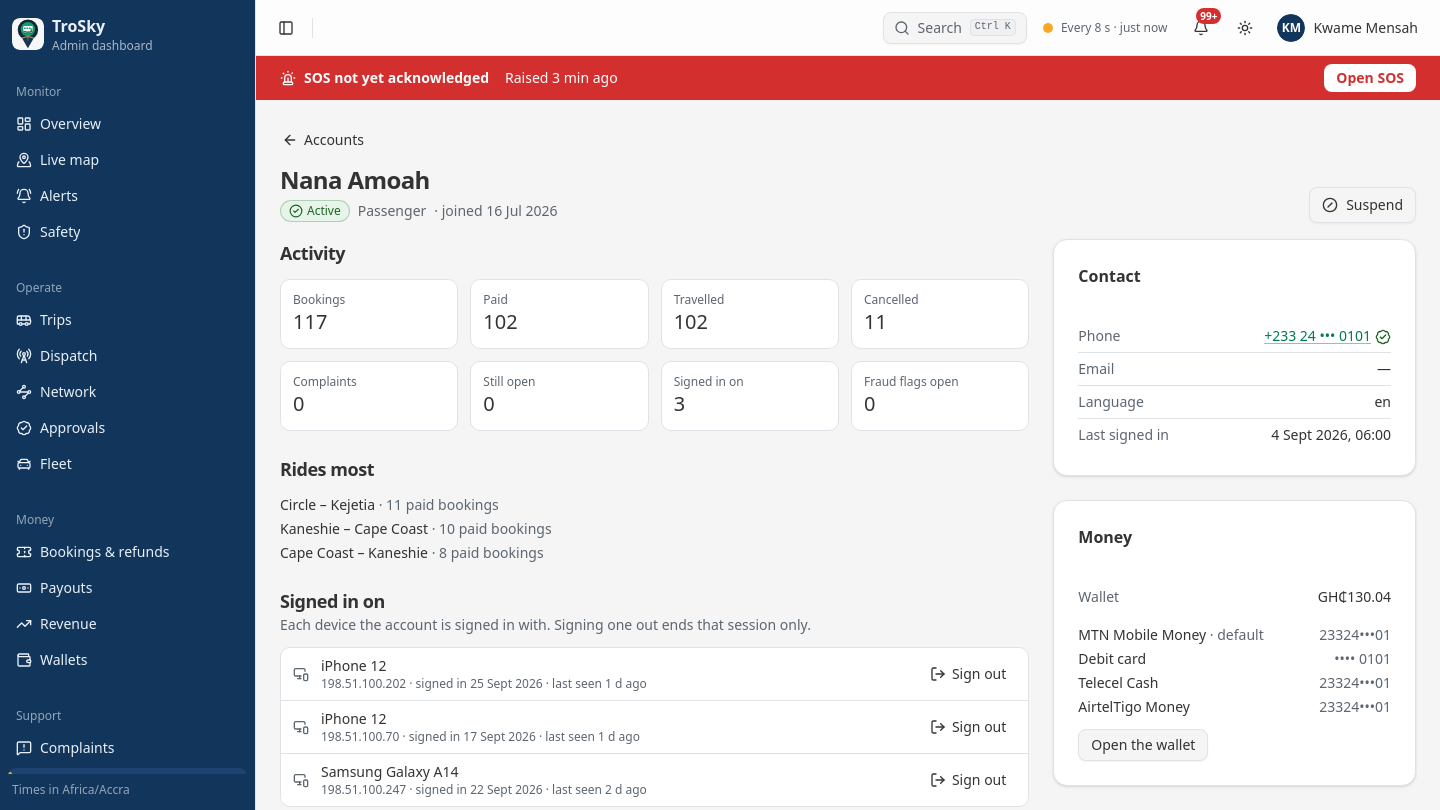
Scenario: Accounts › are suspended with a reason, which signs them out everywhere
The width and height of the screenshot is (1440, 810).
Expected: the number of buttons "Sign out" is 3, left=920, top=658, right=1016, bottom=690; left=920, top=711, right=1016, bottom=743; left=920, top=764, right=1016, bottom=796
Click the button "Suspend" at (1363, 205), box left=1309, top=187, right=1416, bottom=223
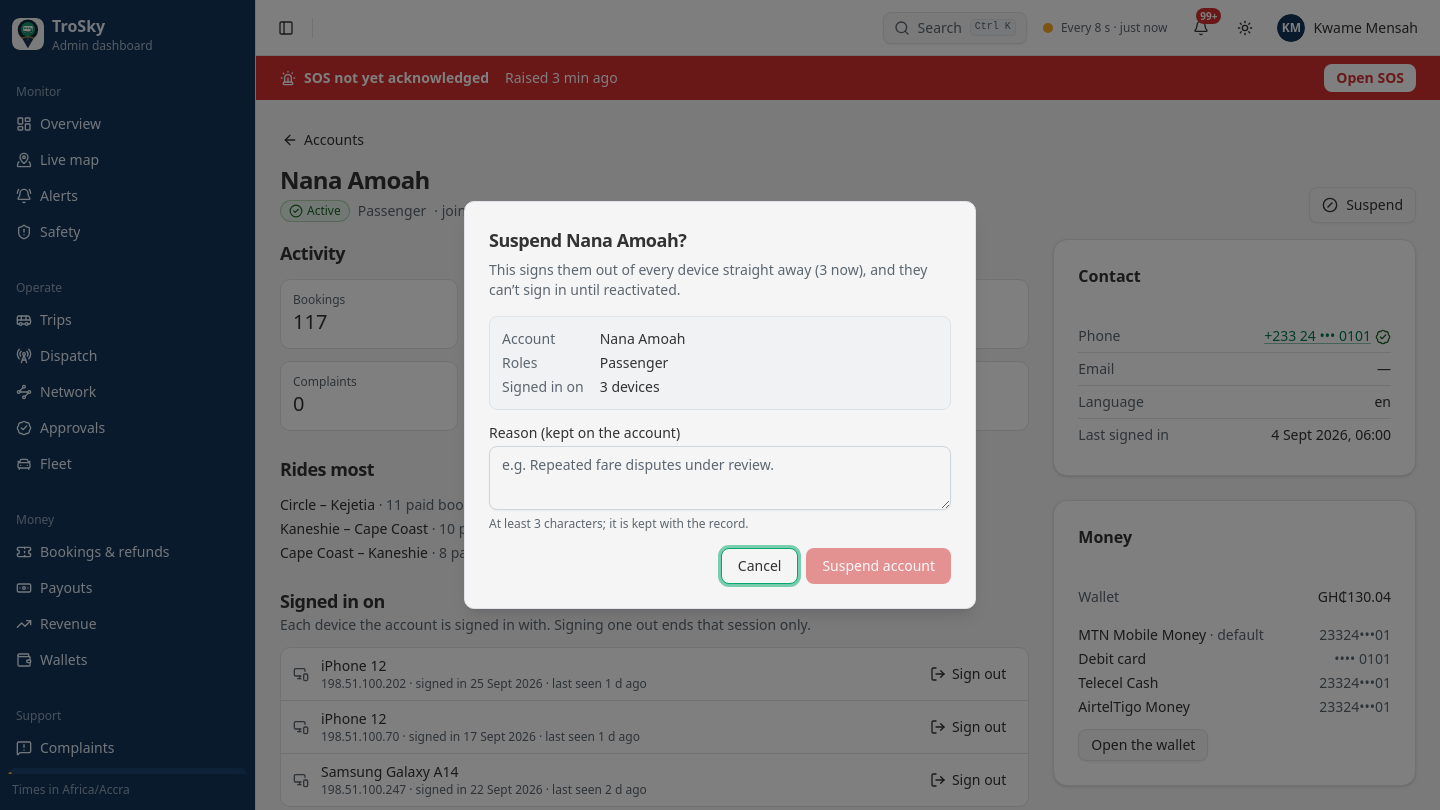
Now the text "signs them out of every device straight away" is shown, box left=489, top=260, right=928, bottom=299
Now the button "Suspend account" is disabled, box left=806, top=548, right=951, bottom=584
Type "Fare dispute under review." into the text box at (720, 478), box left=489, top=446, right=951, bottom=510
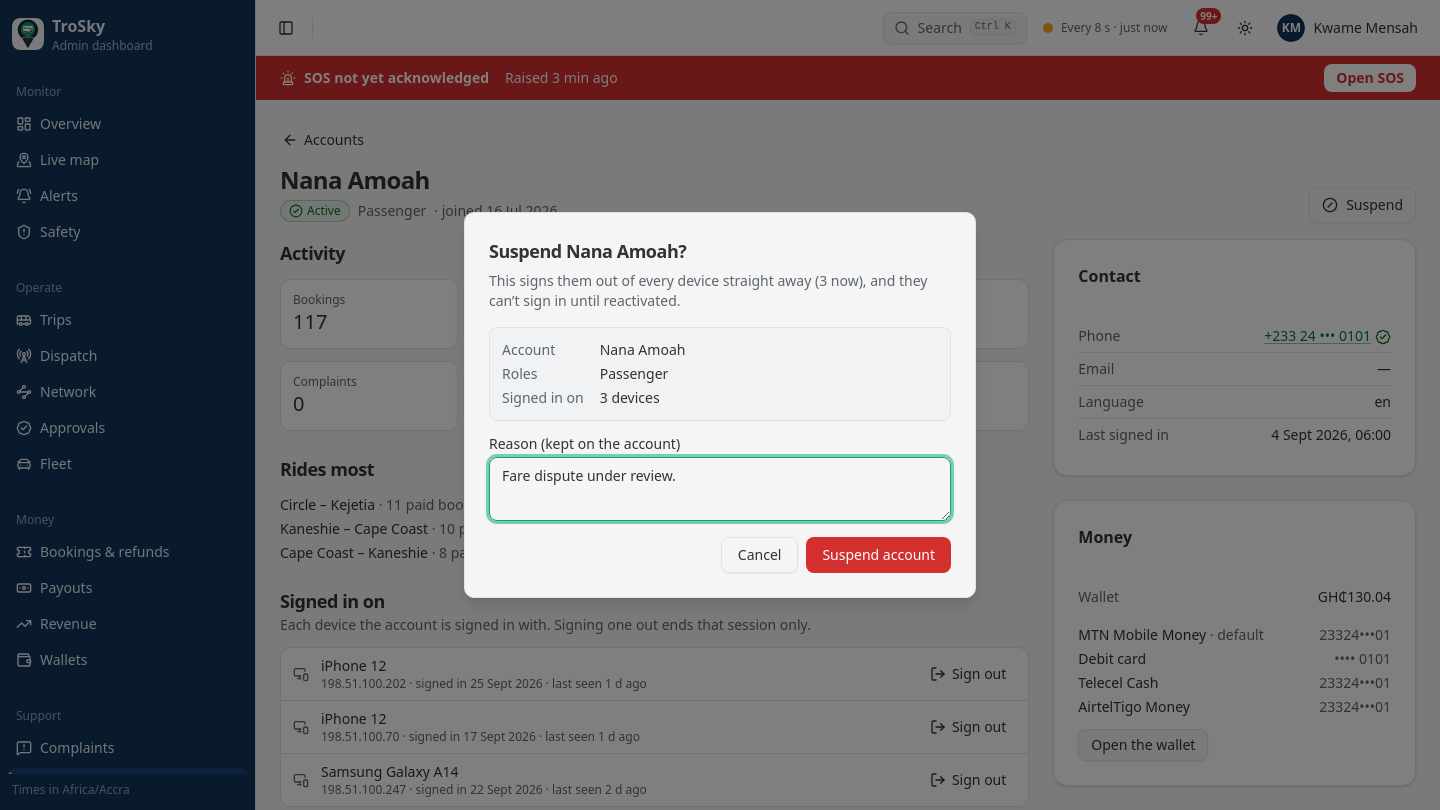
Click the button "Suspend account" at (879, 555), box left=806, top=537, right=951, bottom=573
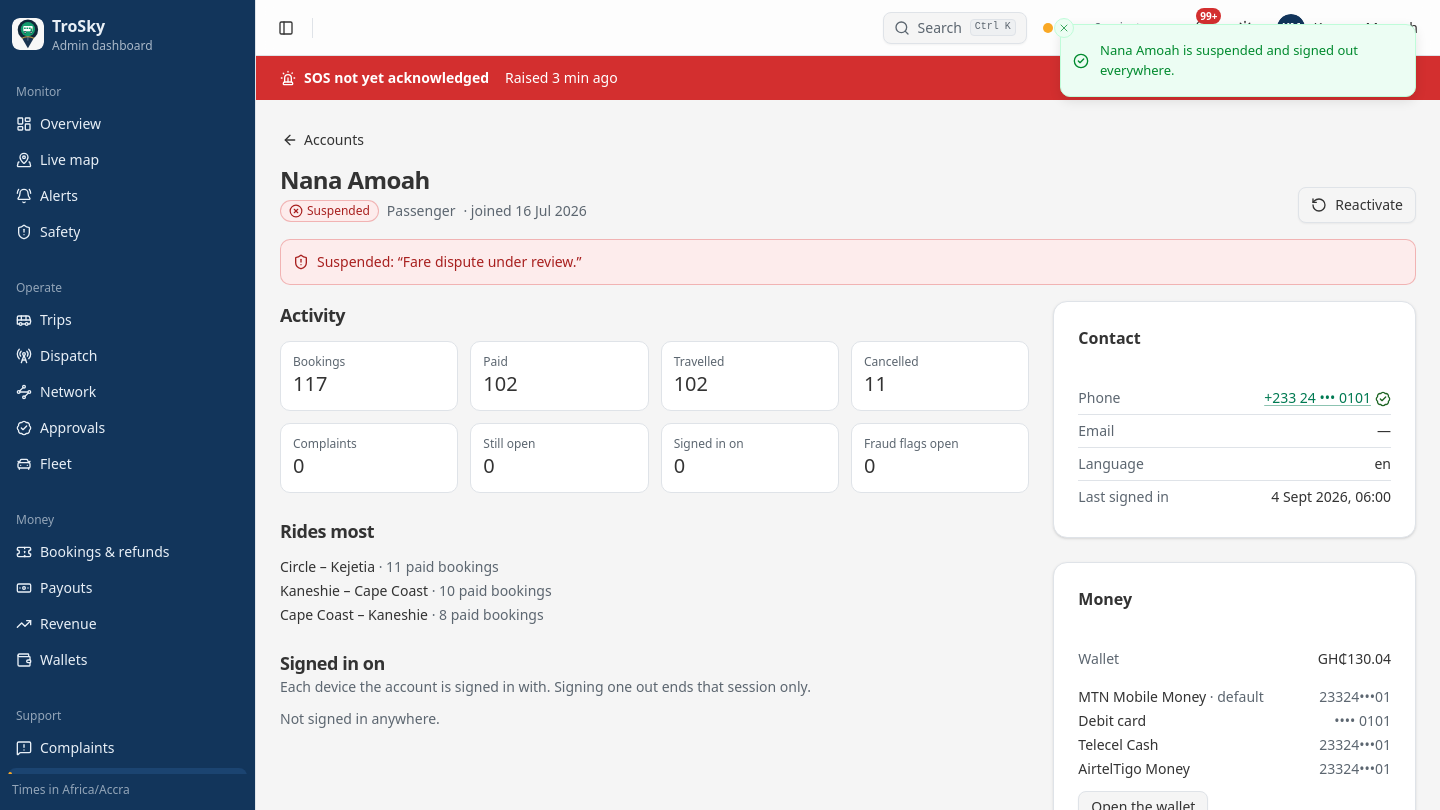
Now the text "Nana Amoah is suspended and signed out everywhere." is shown, box left=1100, top=41, right=1399, bottom=80
Now the text "Suspended: “Fare dispute under review.”" is shown, box left=280, top=239, right=1416, bottom=285
Now the text "Not signed in anywhere." is shown, box left=280, top=709, right=440, bottom=728
Click the button "Reactivate" at (1357, 205), box left=1298, top=187, right=1416, bottom=223
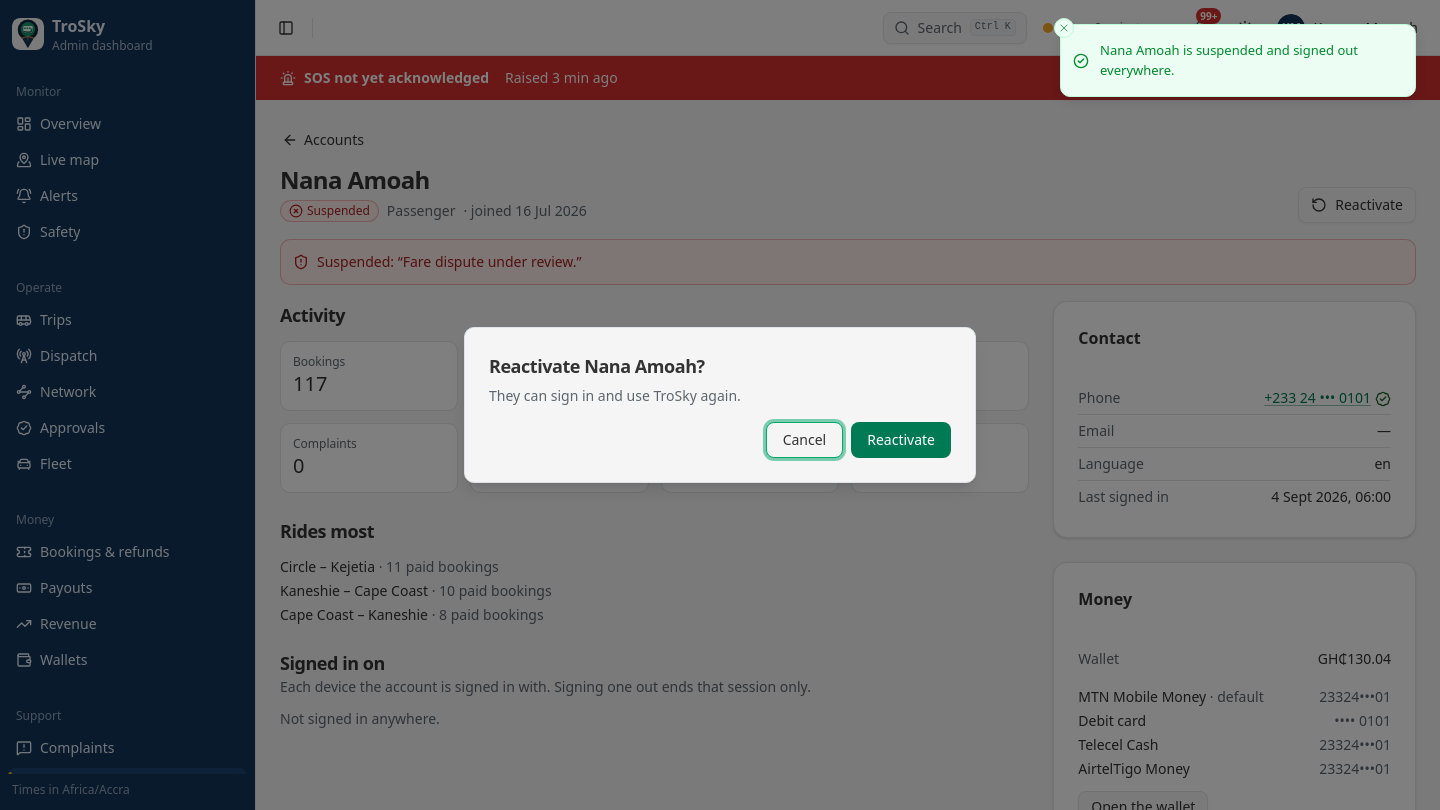
Click the button "Reactivate" at (901, 440), box left=851, top=422, right=951, bottom=458
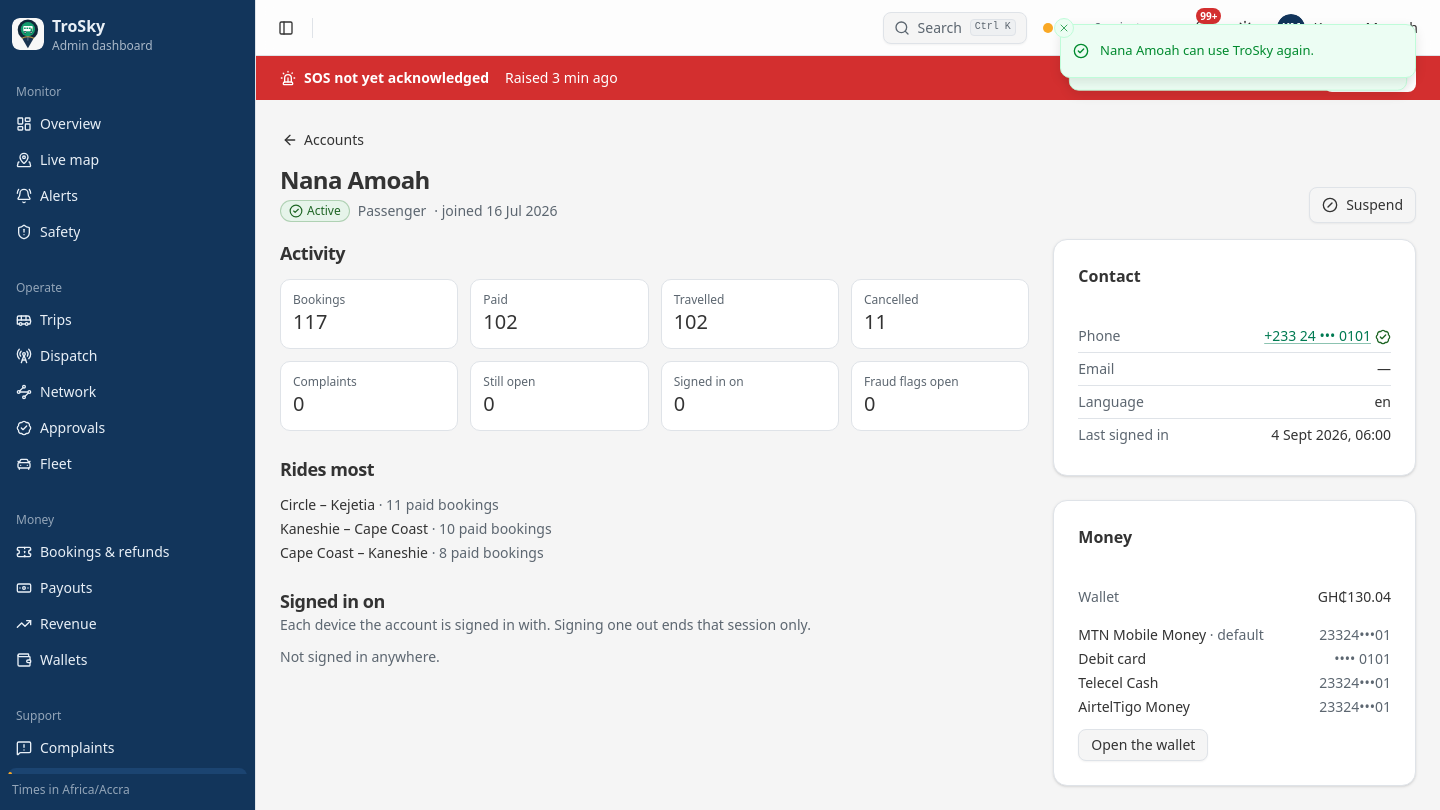
Now the text "Nana Amoah can use TroSky again." is shown, box left=1100, top=41, right=1314, bottom=60
Now the button "Suspend" is shown, box left=1309, top=187, right=1416, bottom=223
